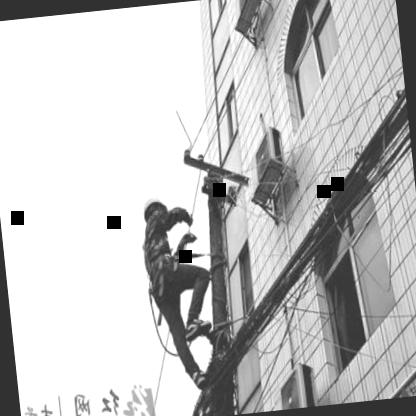helmet: (138, 190, 172, 236)
